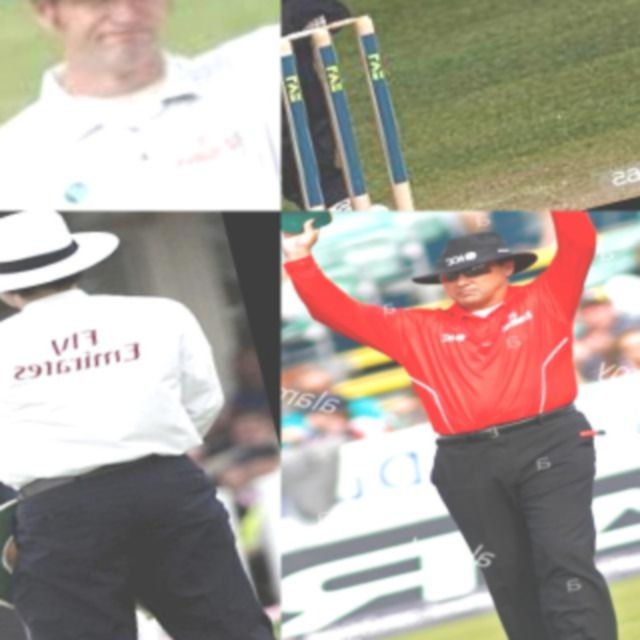No_Action: (281, 0, 479, 211)
Out: (0, 211, 281, 640), (0, 0, 281, 211)
Six: (281, 211, 640, 640)
